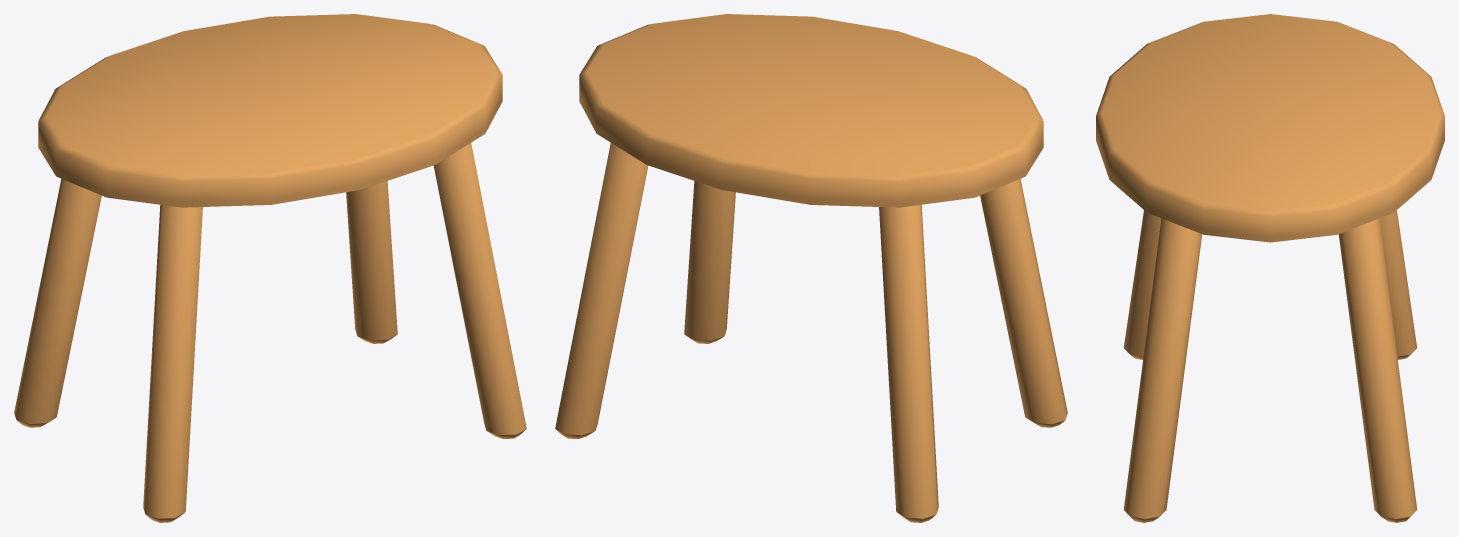
The model's file is pieni_poyta.fbx.
3 renders of one model, left to right at view 1: azimuth 30°, elevation 25°; view 2: azimuth 150°, elevation 25°; view 3: azimuth 270°, elevation 25°, orthographic. The views are drawn at different scales.
Visible parts, largest first — view 1: pieni_poyta, jalat; view 2: pieni_poyta, jalat; view 3: pieni_poyta, jalat.
Part boxes in pixels (x1,y1,x2,y2): pieni_poyta: (38,14,502,207); jalat: (14,143,526,522); pieni_poyta: (579,14,1043,207); jalat: (555,143,1067,522); pieni_poyta: (1096,14,1444,242); jalat: (1123,210,1417,522).
Size of the model in its own units: 281 by 209 by 204.
